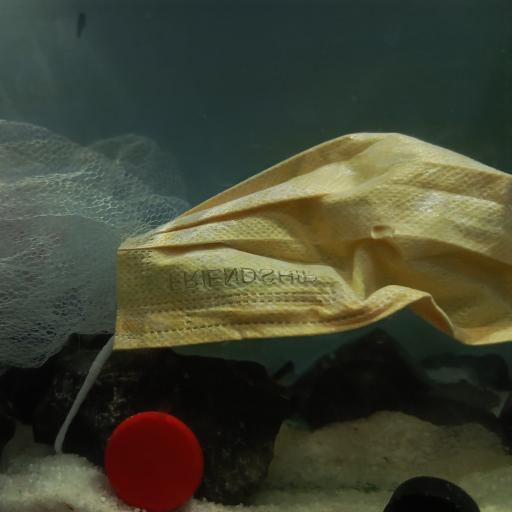bottle_cap: (101, 408, 201, 512)
mask: (101, 126, 512, 357)
net: (0, 116, 198, 366)
